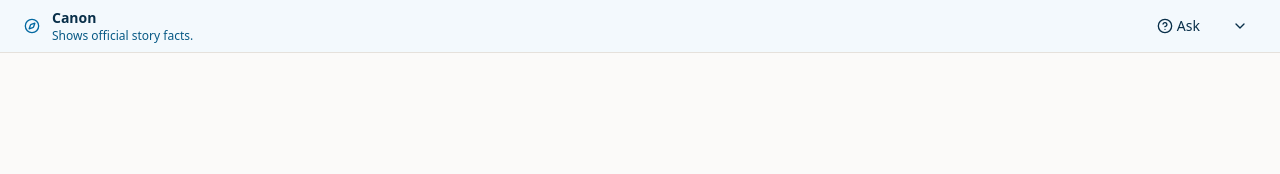
Test: renders page purpose, importance, next step, and direct destination
Later steps or results of the test are not shown.
Expected: the text "Shows official story facts." is shown, [52, 27, 193, 44]
Click the button named "Show page guidance". click: [1240, 26]
box: [1224, 10, 1256, 42]
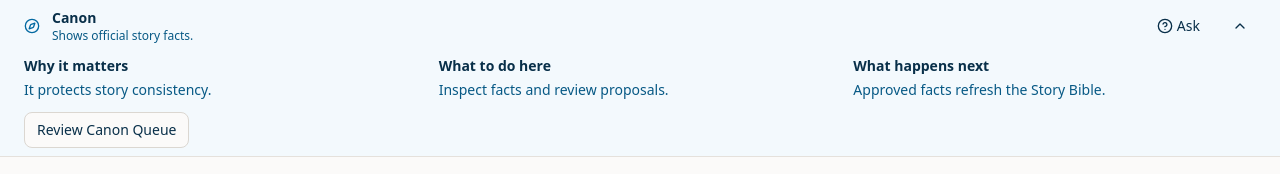
Result: the text "It protects story consistency." is shown at [24, 80, 211, 99]
